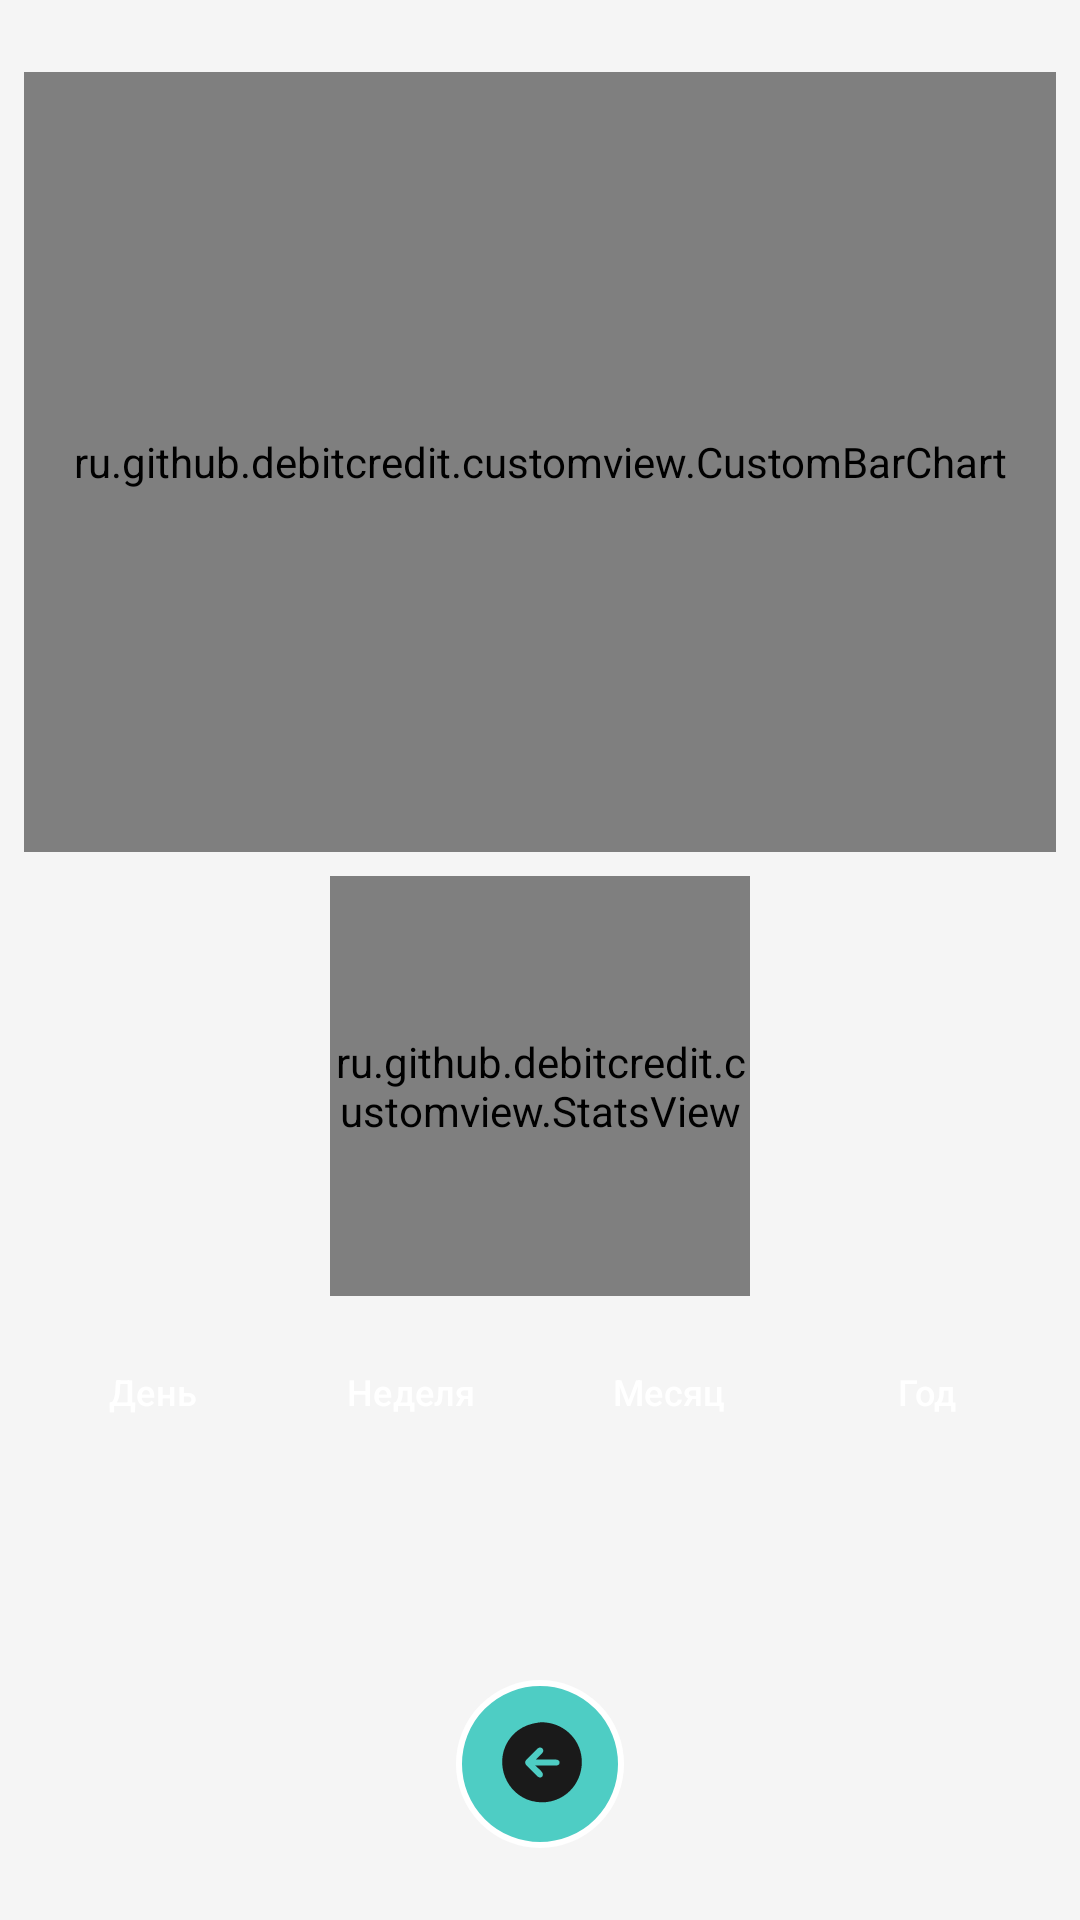

Where icons sit on this 1080x1920 app screen, as (x1, y1, x2, y2):
Отмена: (462, 1686, 618, 1842)
